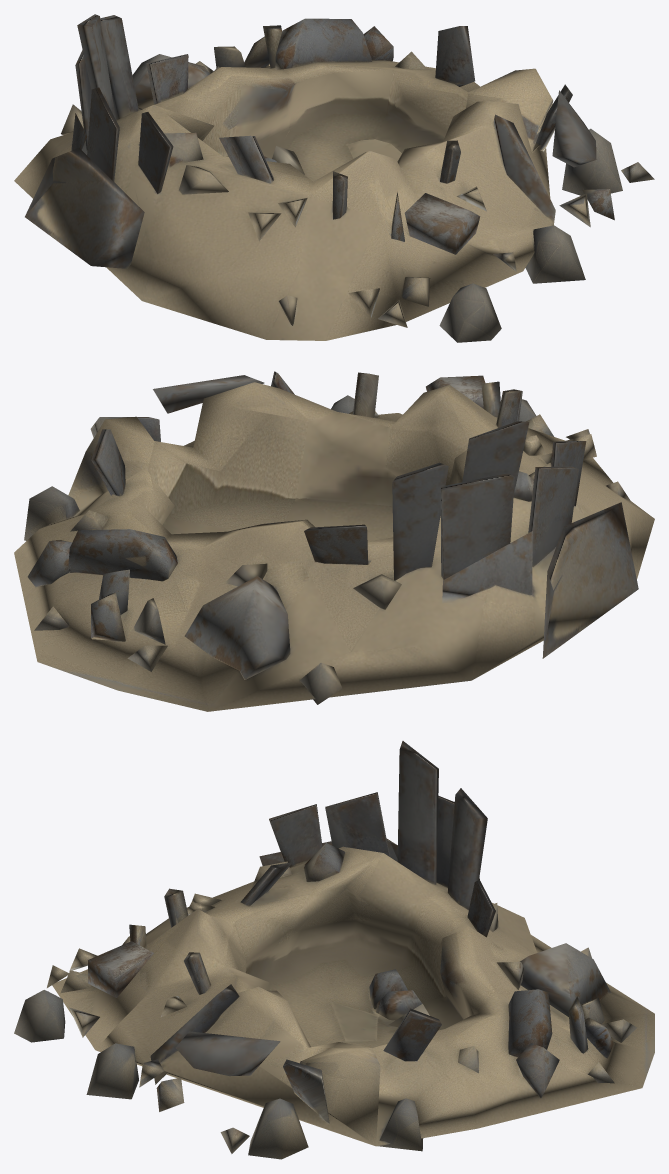
Rendered from Desert Ant Eater Lair.glb.
The picture shows the model from 3 angles, top to bottom: view 1: azimuth 30°, elevation 25°; view 2: azimuth 150°, elevation 25°; view 3: azimuth 270°, elevation 25°; orthographic projection. The views are drawn at different scales.
Bounding box in the file's own units: 1.79 × 0.7031 × 2.
1 material, 1 textured.
